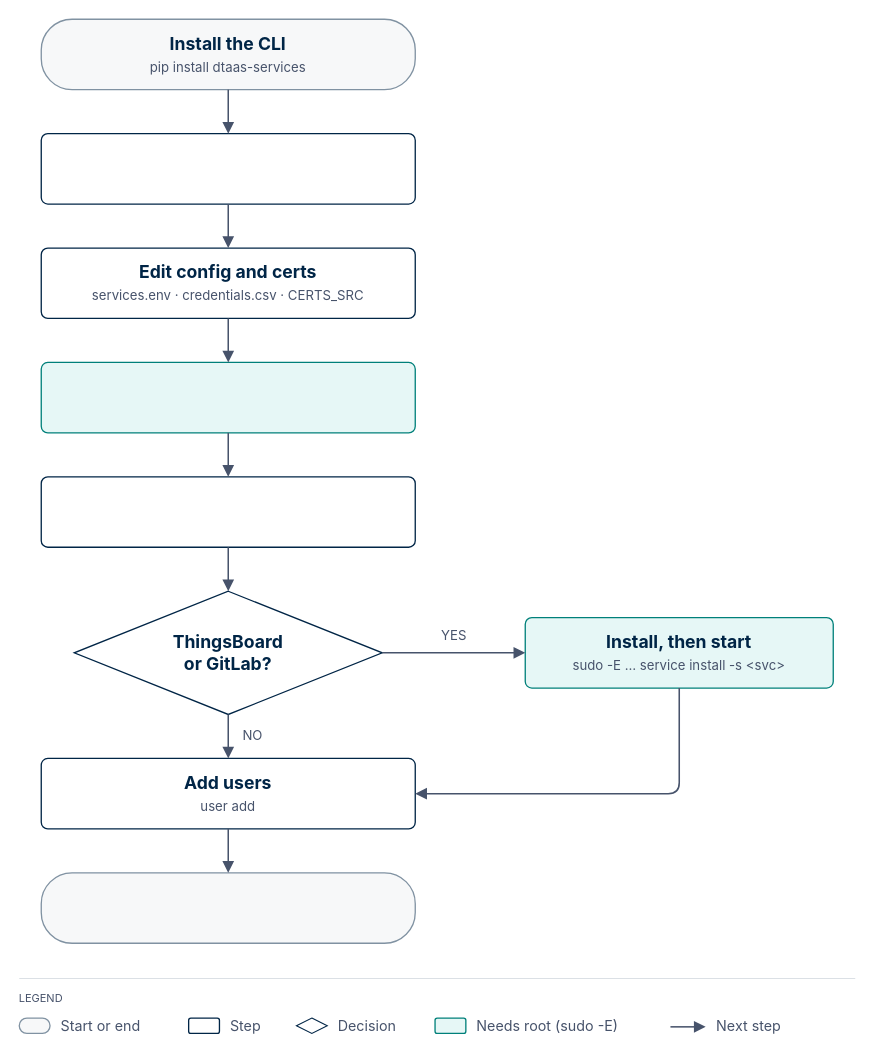
This 876x1057 diagram has some shape labels left out. The centre of each missing label's shape, as x and y in pixels:
"Check the services service status" goes at (x=227, y=907).
"Generate the project project generate" goes at (x=227, y=168).
"Prepare the host sudo -E dtaas-services host setup" goes at (x=227, y=397).
"Start the services service start" goes at (x=227, y=511).
